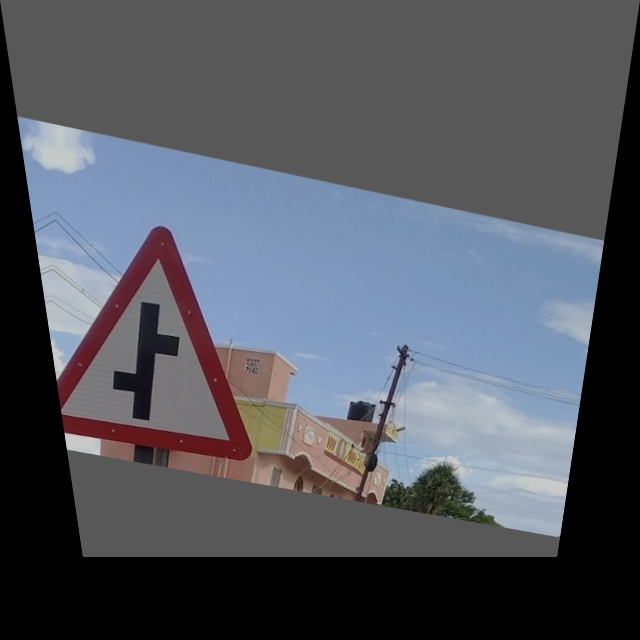Staggered_Intersection: (32, 210, 276, 461)
